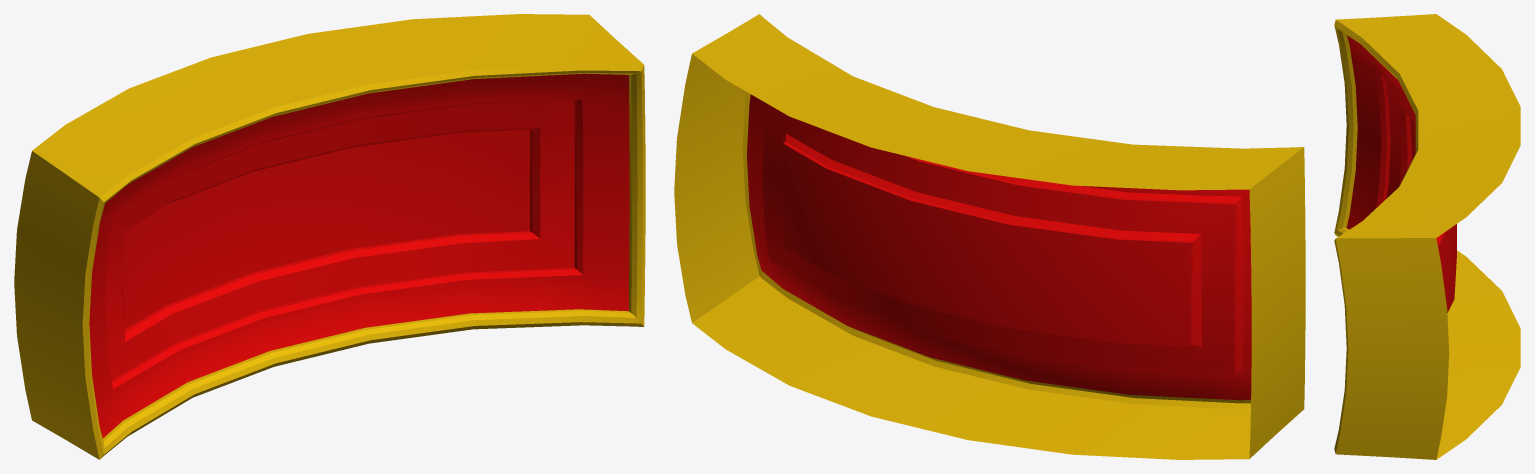
Rendered from Window.fbx.
The picture shows the model from 3 angles, left to right: view 1: azimuth 30°, elevation 25°; view 2: azimuth 150°, elevation 25°; view 3: azimuth 270°, elevation 25°; orthographic projection. The views are drawn at different scales.
Visible parts, largest first — view 1: Window; view 2: Window; view 3: Window.
Part boxes in pixels (<box>): Window: <box>14,14,645,459</box>; Window: <box>674,14,1305,459</box>; Window: <box>1334,14,1520,459</box>.
Size of the model in its own units: 399 by 178 by 135.
